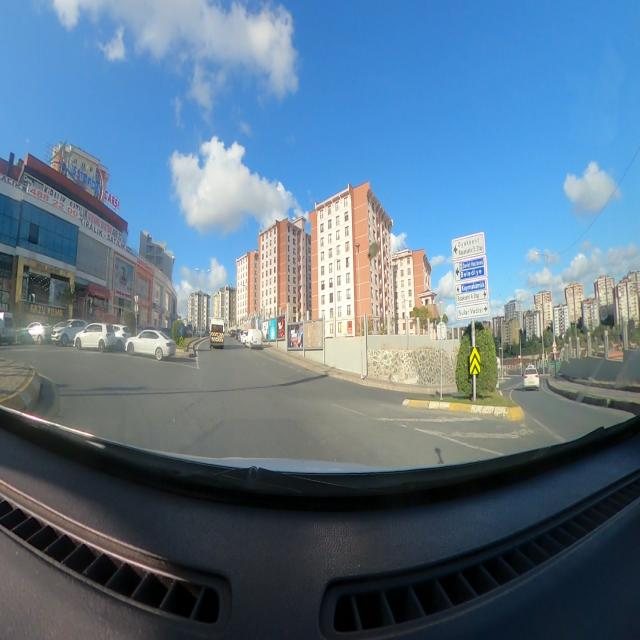SignStore: (29, 303, 65, 318), (137, 256, 155, 275), (90, 283, 109, 299), (116, 289, 131, 299), (142, 300, 150, 307)
